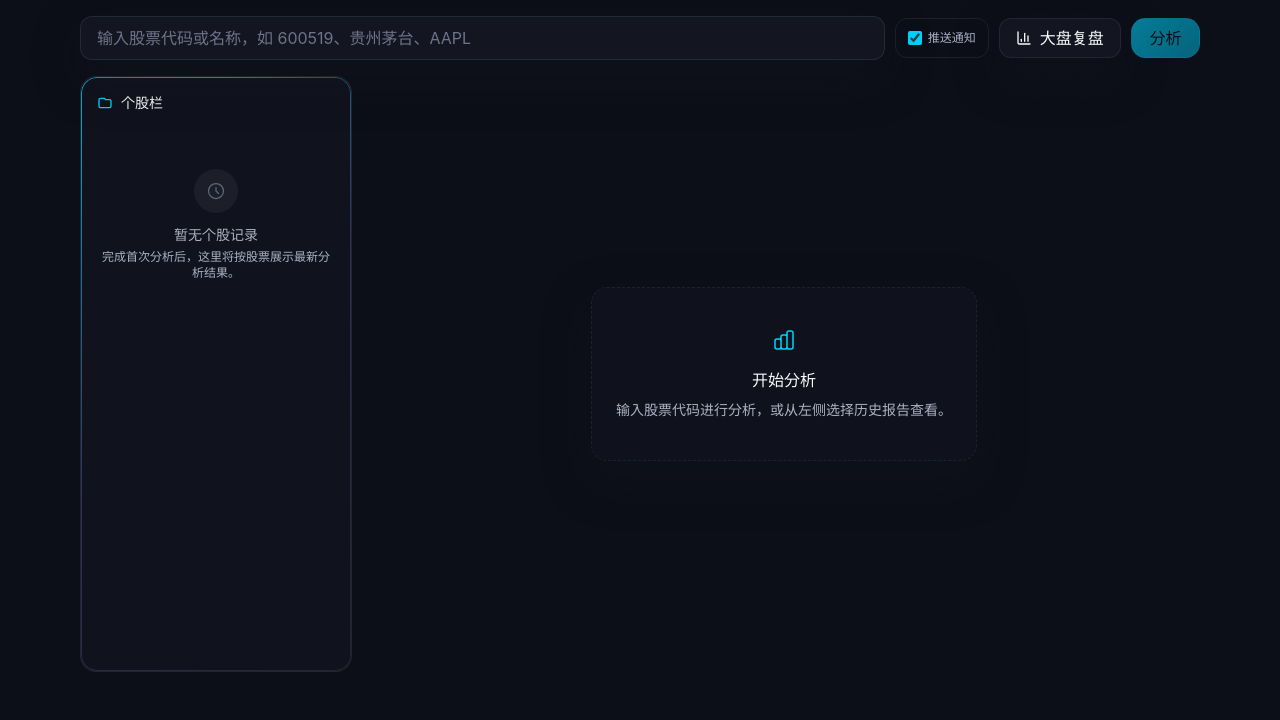
Test: HomePage › surfaces duplicate task warnings from dashboard submission
Step 1. Type "600519" into the field with placeholder "输入股票代码或名称，如 600519、贵州茅台、AAPL" → [482, 38], box [80,16,885,60]
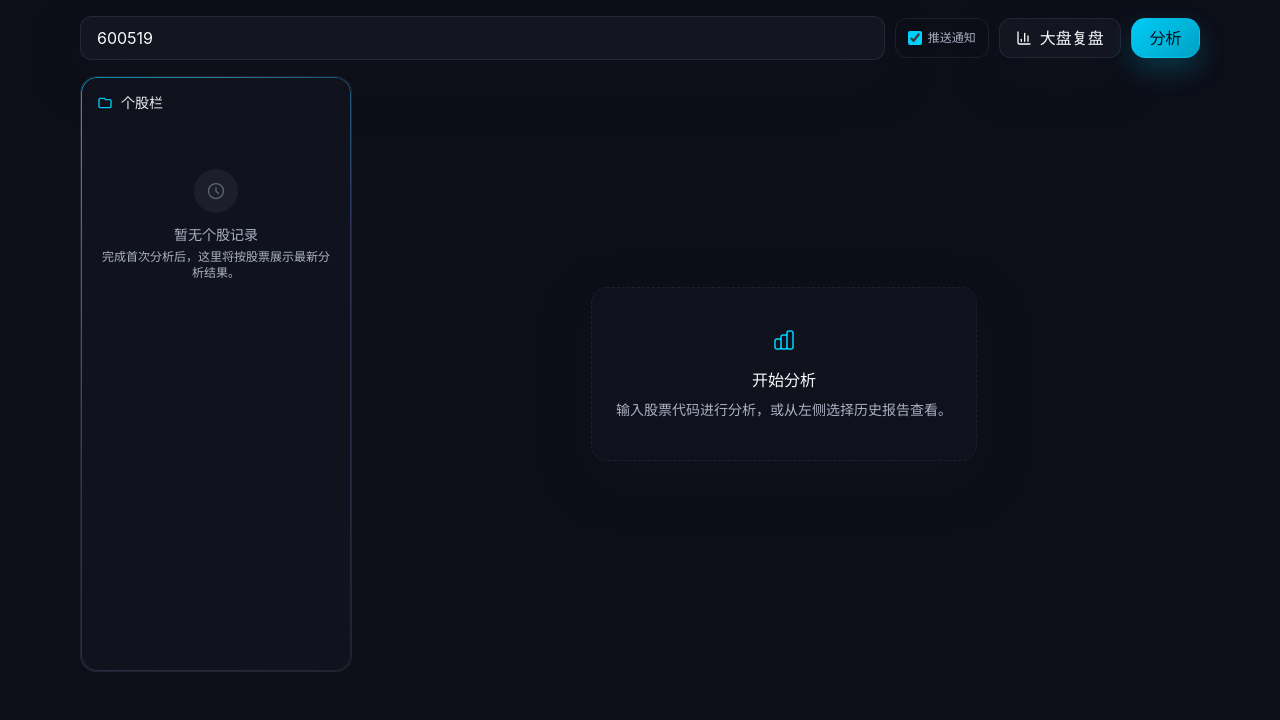
Step 2. Click the button "分析" → [1165, 38], box [1131,18,1200,58]
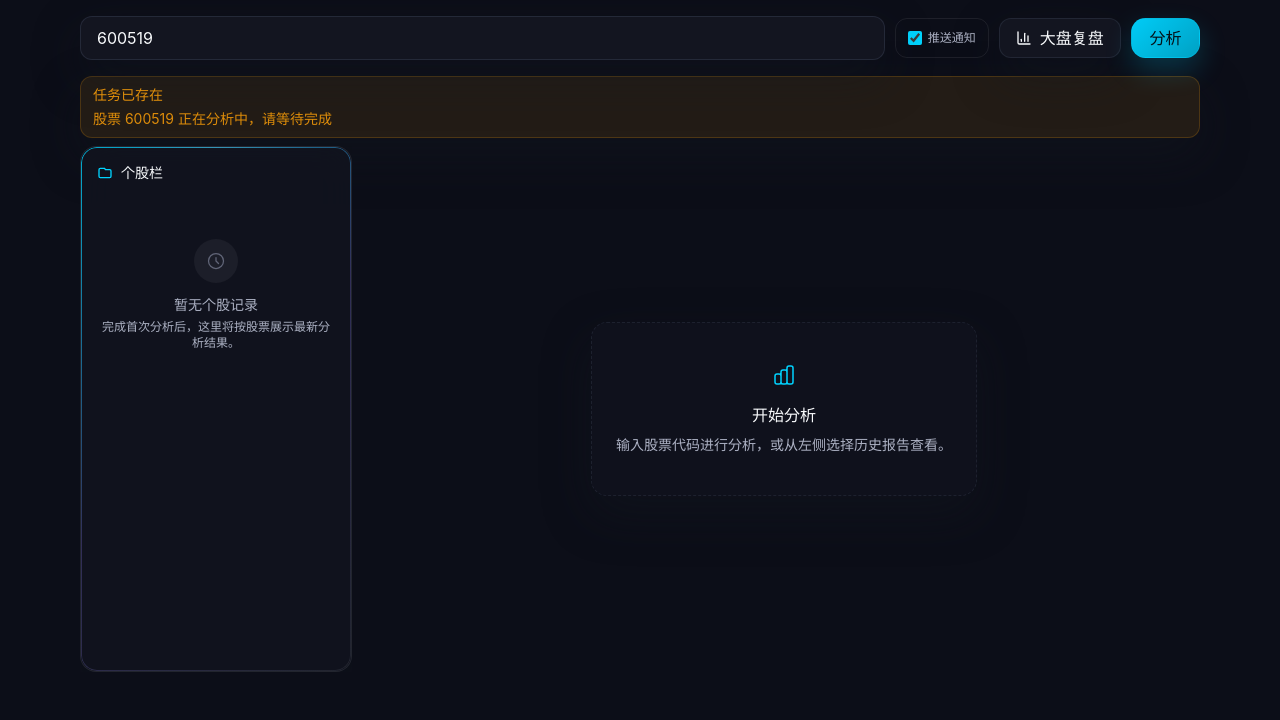
Expected: the text "股票 600519 正在分析中，请等待完成" is shown, [93,109,332,129]
Expected: the text "任务已存在 股票 600519 正在分析中，请等待完成" is shown, [80,76,1200,138]
